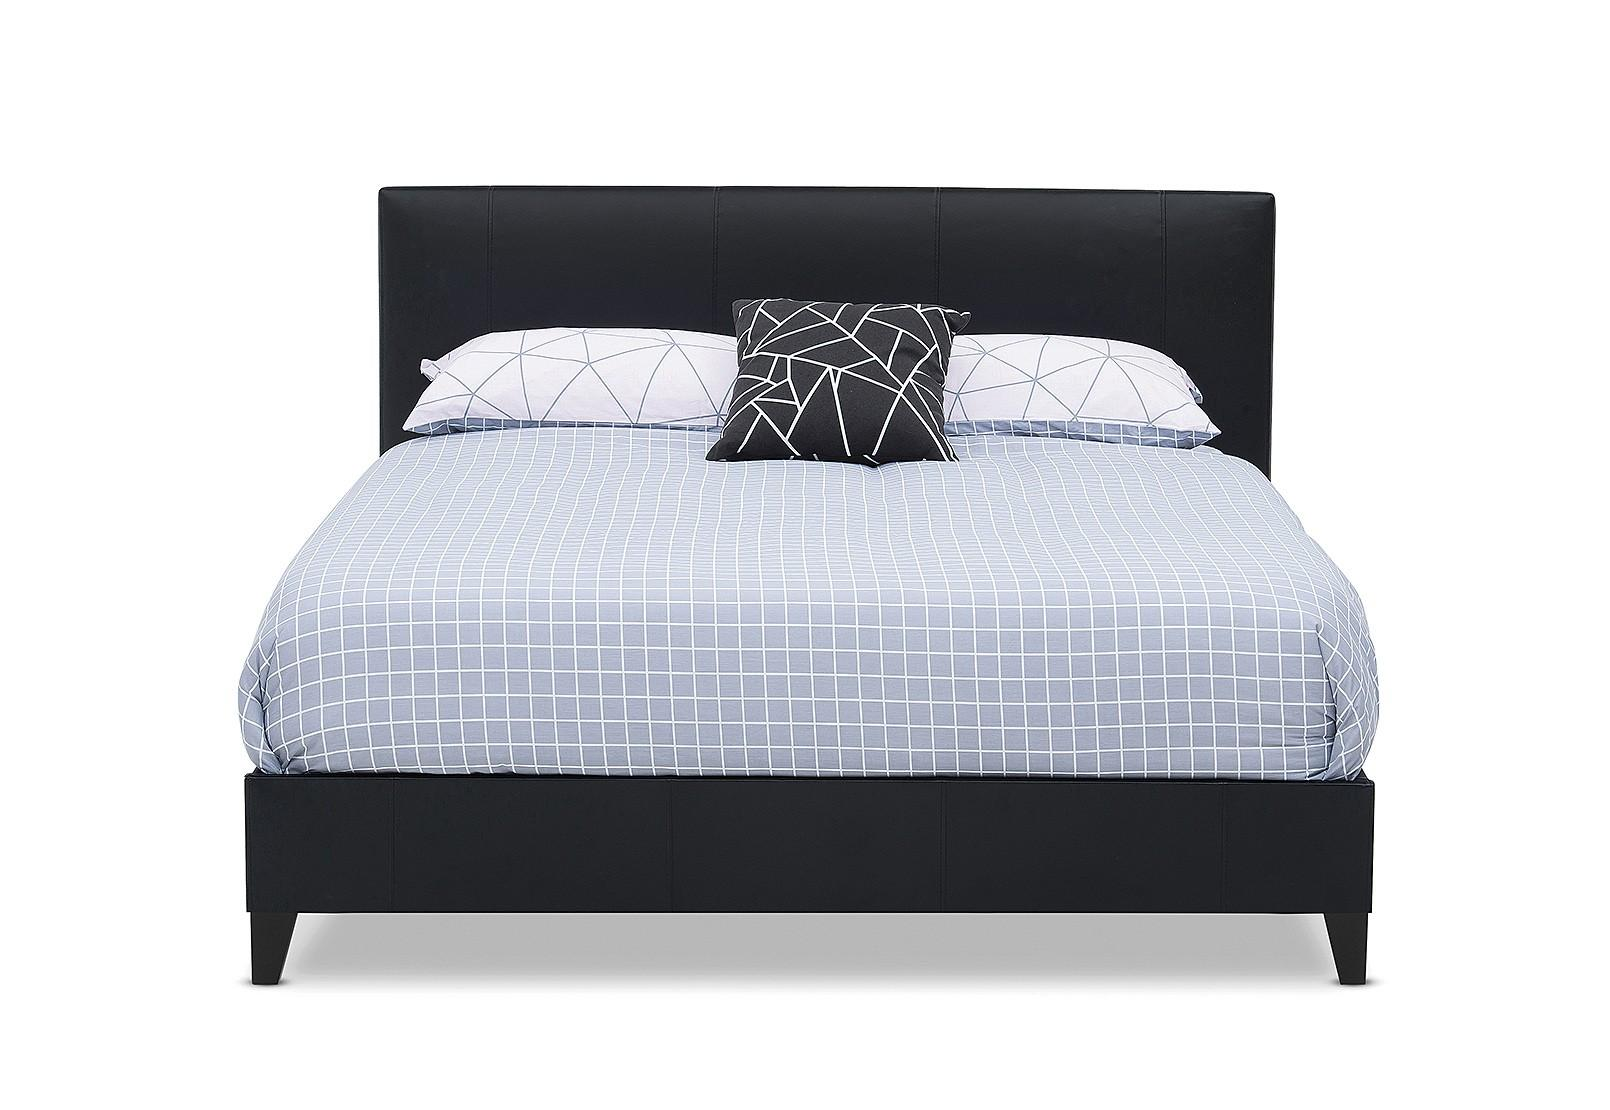bed: (330, 120, 1292, 827)
